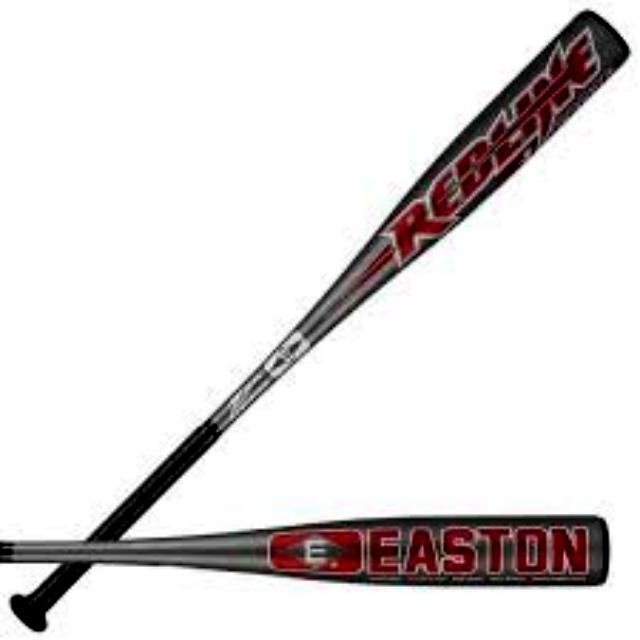baseball bat: (8, 10, 637, 628), (0, 511, 614, 591)
